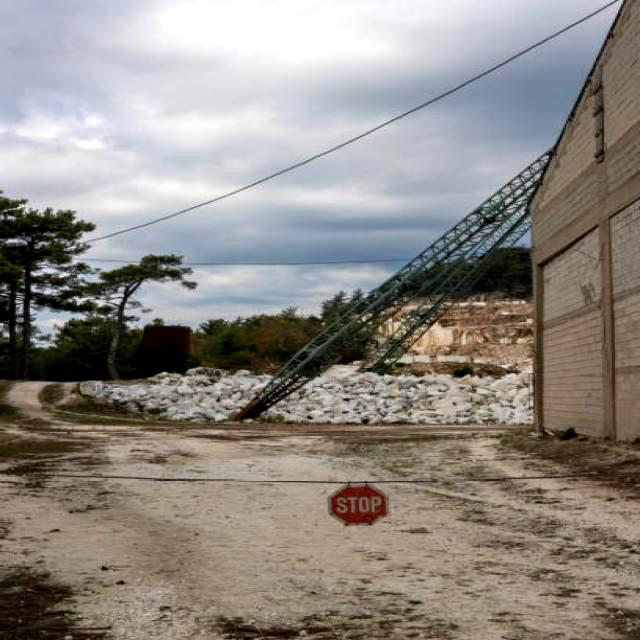Broken Pole: (215, 146, 554, 425), (347, 205, 533, 371)
